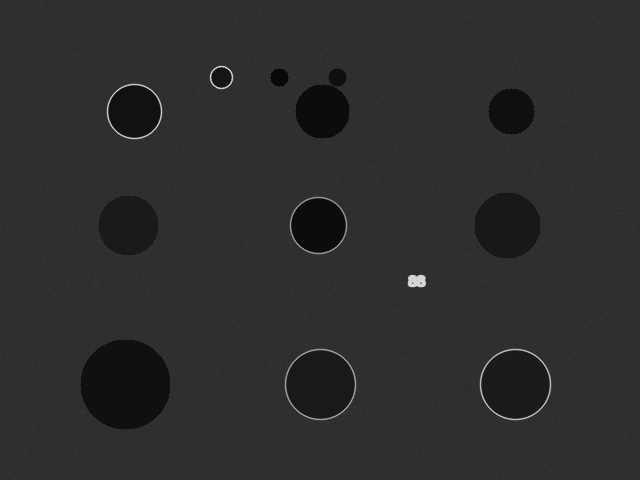hole: (80, 339, 170, 429), (285, 349, 355, 419), (480, 349, 550, 419), (474, 192, 540, 258), (98, 195, 158, 255), (290, 197, 346, 253), (107, 84, 161, 138), (295, 84, 349, 138), (488, 88, 534, 134), (210, 66, 232, 88), (270, 68, 288, 86), (328, 68, 346, 86)
